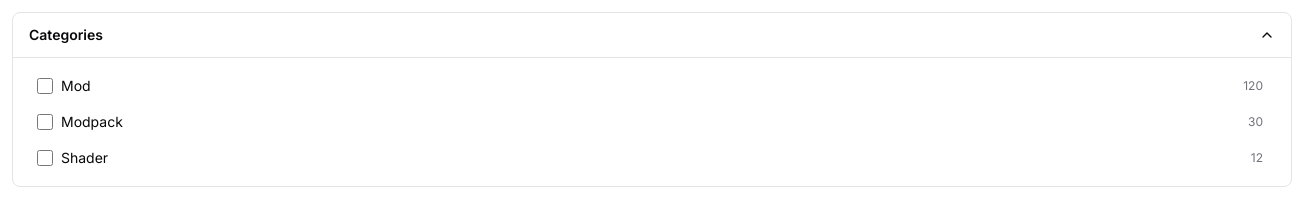
it: FacetFilter › toggles open/close state via header click
This screenshot has width=1304, height=204.
Expected: the checkbox labelled "Mod" is shown, x1=37 y1=78 x2=53 y2=94
Click the button "Categories" at (66, 34), box x1=13 y1=13 x2=1291 y2=57
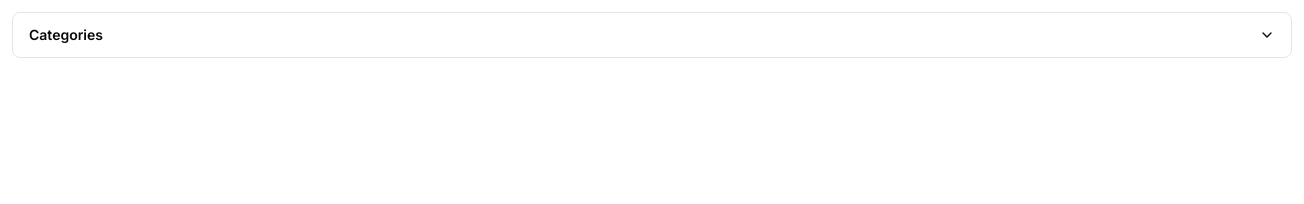
Now the text labelled "Mod" is gone
